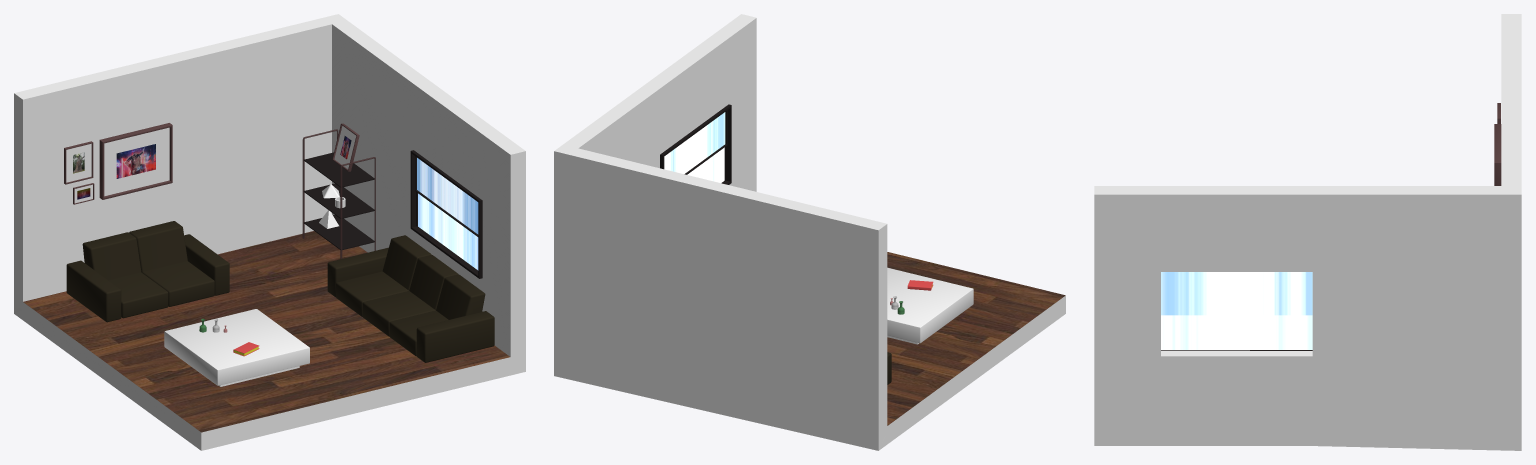
Rendered from isometric_room.glb.
3 renders of one model, left to right at view 1: azimuth 30°, elevation 25°; view 2: azimuth 150°, elevation 25°; view 3: azimuth 270°, elevation 25°, orthographic. The views are drawn at different scales.
Parts seen in each view (by area): view 1: Wall, Table, Box004, Box014, Box016, Box010, Box011, Box009, Box008, Box017, Box012, Box015 (+5 smaller); view 2: Wall, Table; view 3: Wall, Box004.
Boxes of the visible parts, left/top/right/bottom form: Wall: left=14, top=14, right=525, bottom=450; Table: left=164, top=309, right=309, bottom=386; Box004: left=99, top=123, right=172, bottom=199; Box014: left=129, top=221, right=214, bottom=306; Box016: left=82, top=232, right=168, bottom=318; Box010: left=362, top=255, right=458, bottom=336; Box011: left=336, top=235, right=431, bottom=316; Box009: left=416, top=311, right=494, bottom=362; Box008: left=389, top=274, right=485, bottom=356; Box017: left=66, top=260, right=121, bottom=322; Box012: left=327, top=247, right=388, bottom=297; Box015: left=184, top=234, right=229, bottom=295; Wall: left=554, top=14, right=1065, bottom=450; Table: left=887, top=267, right=973, bottom=344; Wall: left=1094, top=14, right=1521, bottom=450; Box004: left=1494, top=124, right=1501, bottom=185.
Bounding box in the file's own units: 4.2 × 2.78 × 4.2.
Materials: 27 (5 with a texture image).
